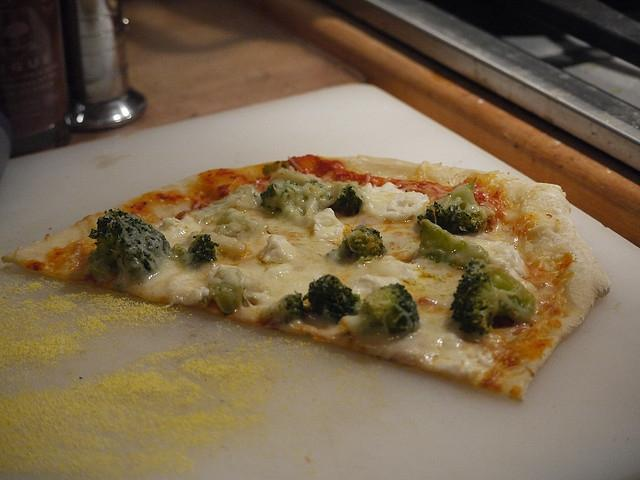broccoli: (85, 208, 171, 288), (451, 261, 536, 335), (417, 176, 495, 234), (260, 179, 339, 227), (419, 219, 488, 268), (359, 283, 420, 336), (308, 273, 358, 324), (166, 235, 218, 268), (260, 290, 306, 326), (339, 226, 386, 260), (199, 282, 244, 314), (328, 184, 362, 216)
